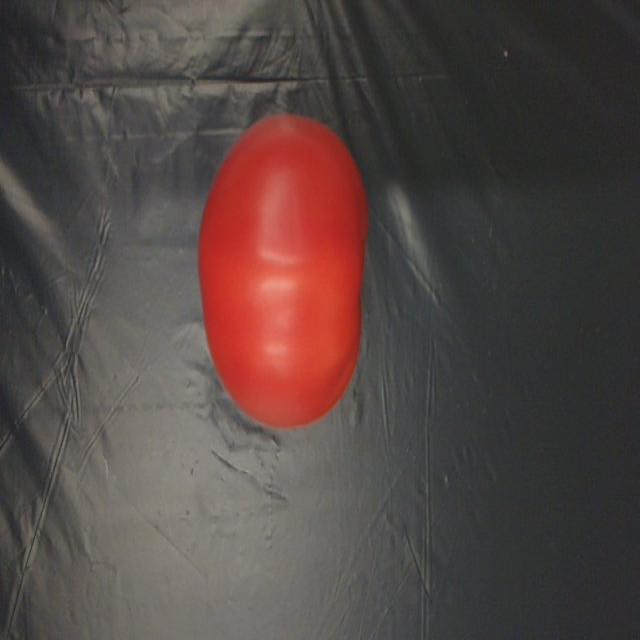kirmizi: (200, 109, 379, 448)
